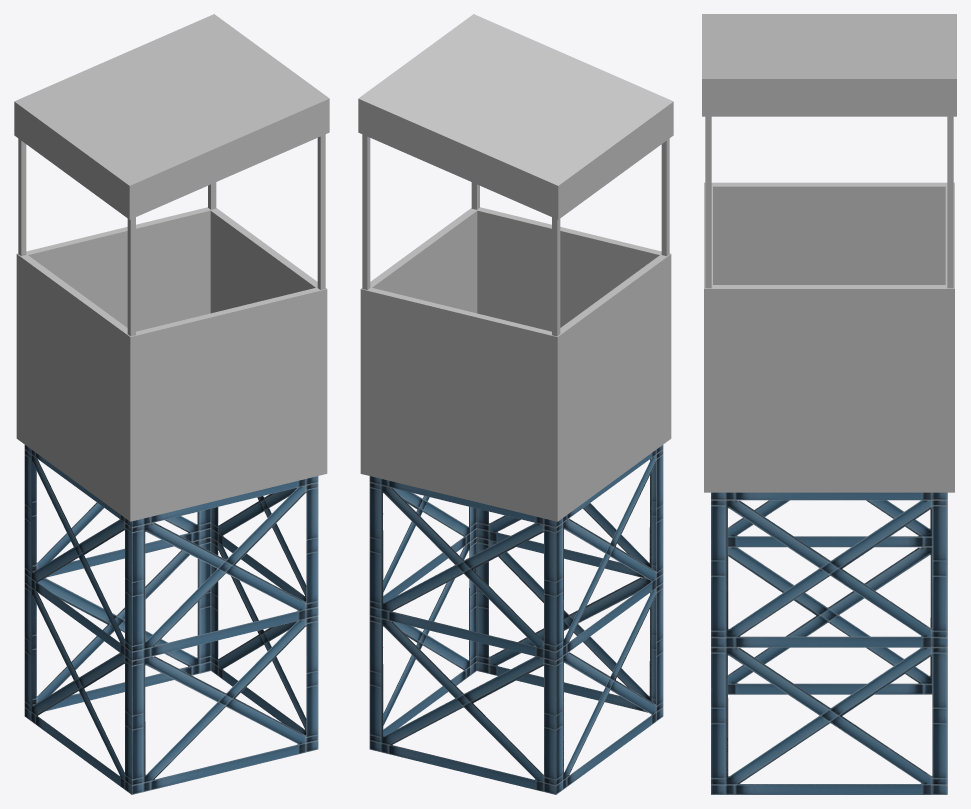
Rendered from Cabin-I.fbx.
3 views of the same model, side by side, from view 1: azimuth 30°, elevation 25°; view 2: azimuth 150°, elevation 25°; view 3: azimuth 270°, elevation 25° (orthographic). The views are drawn at different scales.
Visible parts, largest first — view 1: Cabin-I; view 2: Cabin-I; view 3: Cabin-I.
Part boxes in pixels (bbox=[...]): Cabin-I: bbox=[14, 14, 329, 794]; Cabin-I: bbox=[358, 14, 673, 794]; Cabin-I: bbox=[702, 14, 956, 794].
Size of the model in its own units: 280 by 873 by 280.
